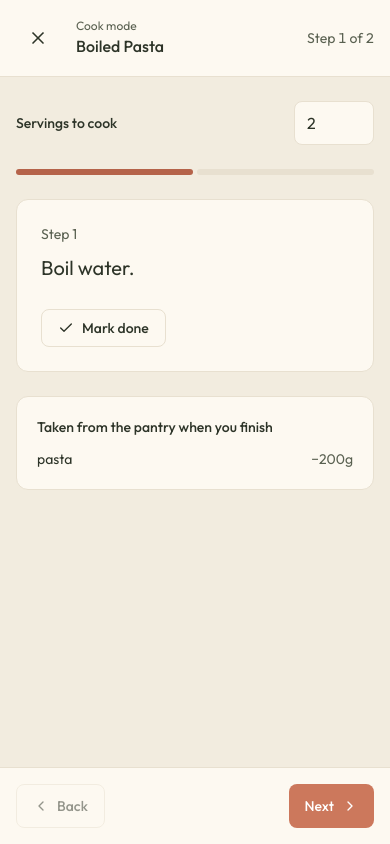
Scenario: CookMode › blocks finishing until every step is marked done, then cooks
Click the button "Mark done". click: (103, 328)
box: [41,308,166,346]
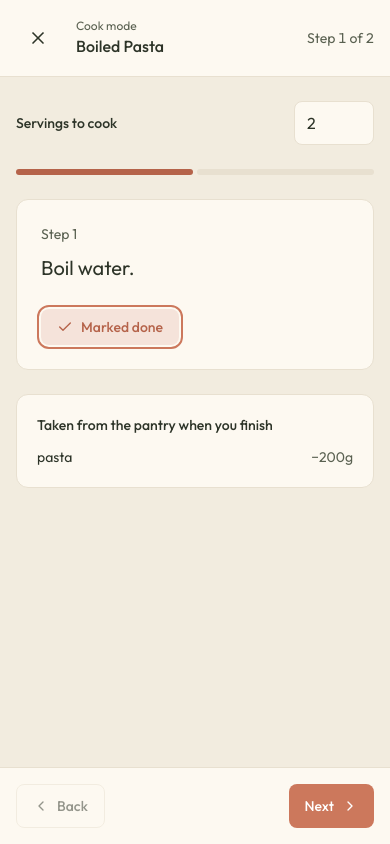
Click the button "Next". click: (331, 806)
box: [288,784,374,828]
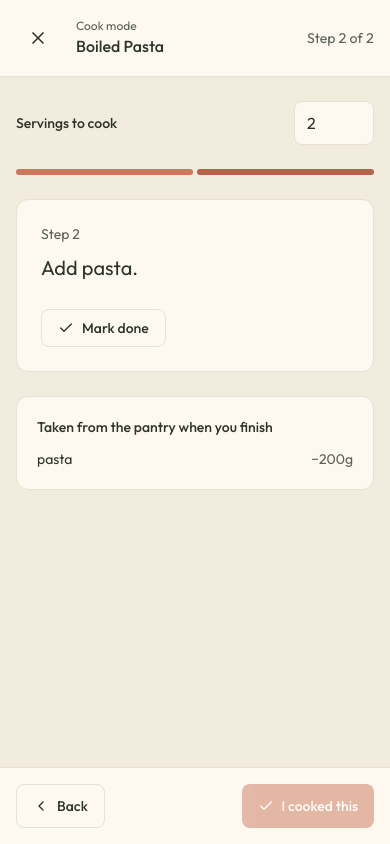
Check: the button "I cooked this" is disabled, box [242,784,374,828]
Click the button "Mark done". click: (103, 328)
box: [41,308,166,346]
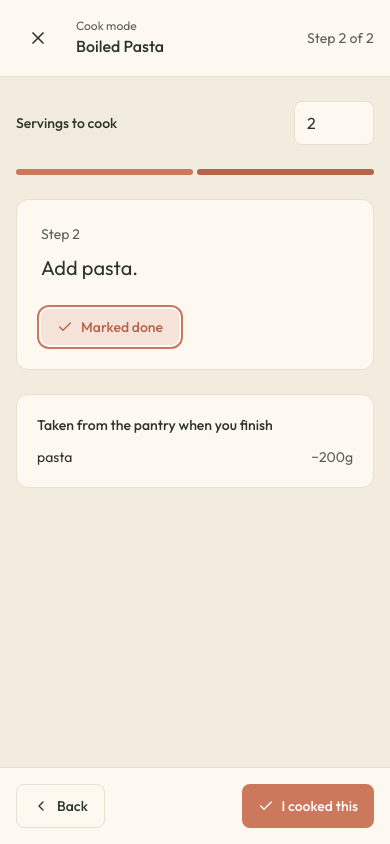
Check: the button "I cooked this" is enabled
Click the button "I cooked this". click: (308, 806)
box: [242,784,374,828]
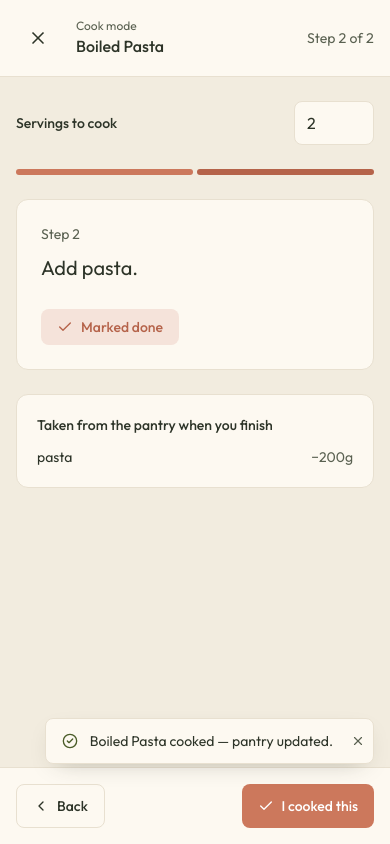
Check: the text "Boiled Pasta cooked — pantry updated." is shown, box [90,731,333,751]
